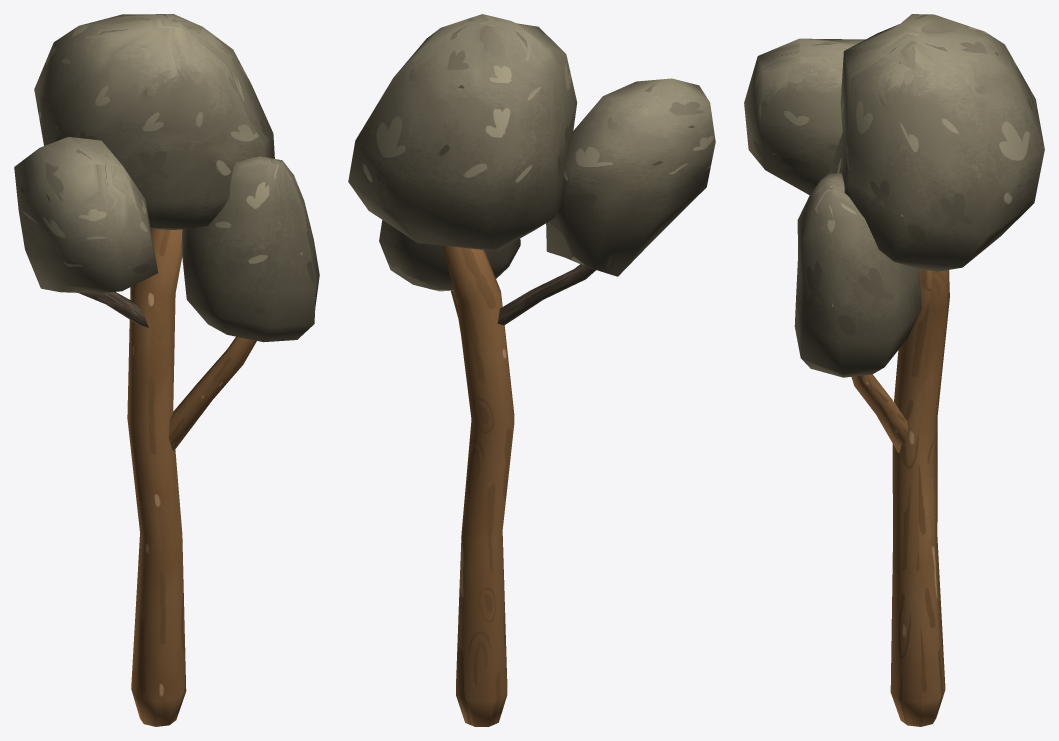
The model's file is _euk1.fbx.
3 views of the same model, side by side, from view 1: azimuth 30°, elevation 25°; view 2: azimuth 150°, elevation 25°; view 3: azimuth 270°, elevation 25° (orthographic). The views are drawn at different scales.
Parts seen in each view (by area): view 1: BOOM1; view 2: BOOM1; view 3: BOOM1.
Part boxes in pixels (left/top/right/bottom): BOOM1: left=14, top=14, right=319, bottom=726; BOOM1: left=348, top=14, right=715, bottom=726; BOOM1: left=744, top=14, right=1044, bottom=726.
Size of the model in its own units: 1653 by 3846 by 1527.
Materials: 3 (3 with a texture image).
